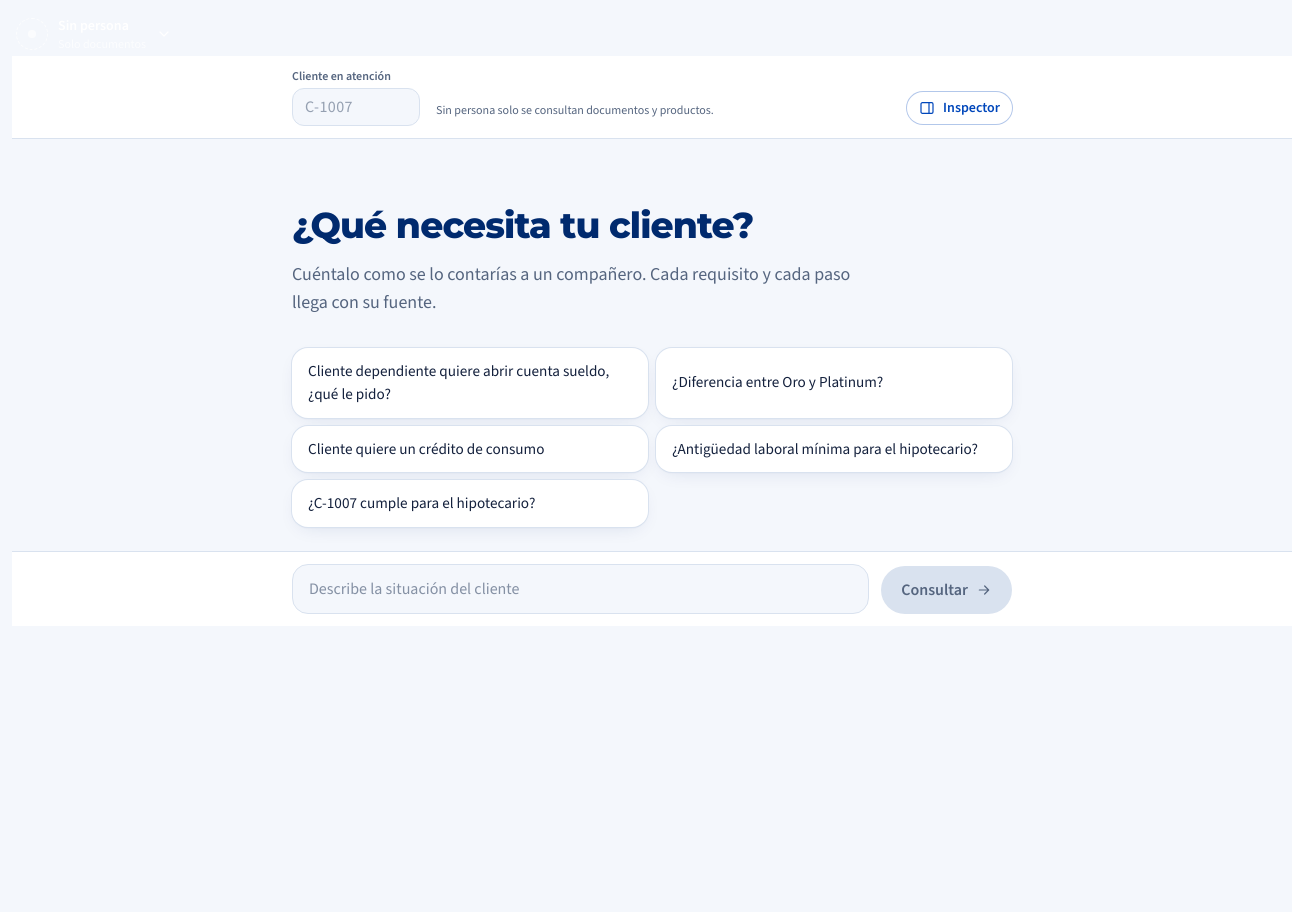
Scenario: Chat › shows an error event in place of an answer
Type "hola" into the text box named "Consulta" at (581, 589), box [292,564,869,614]
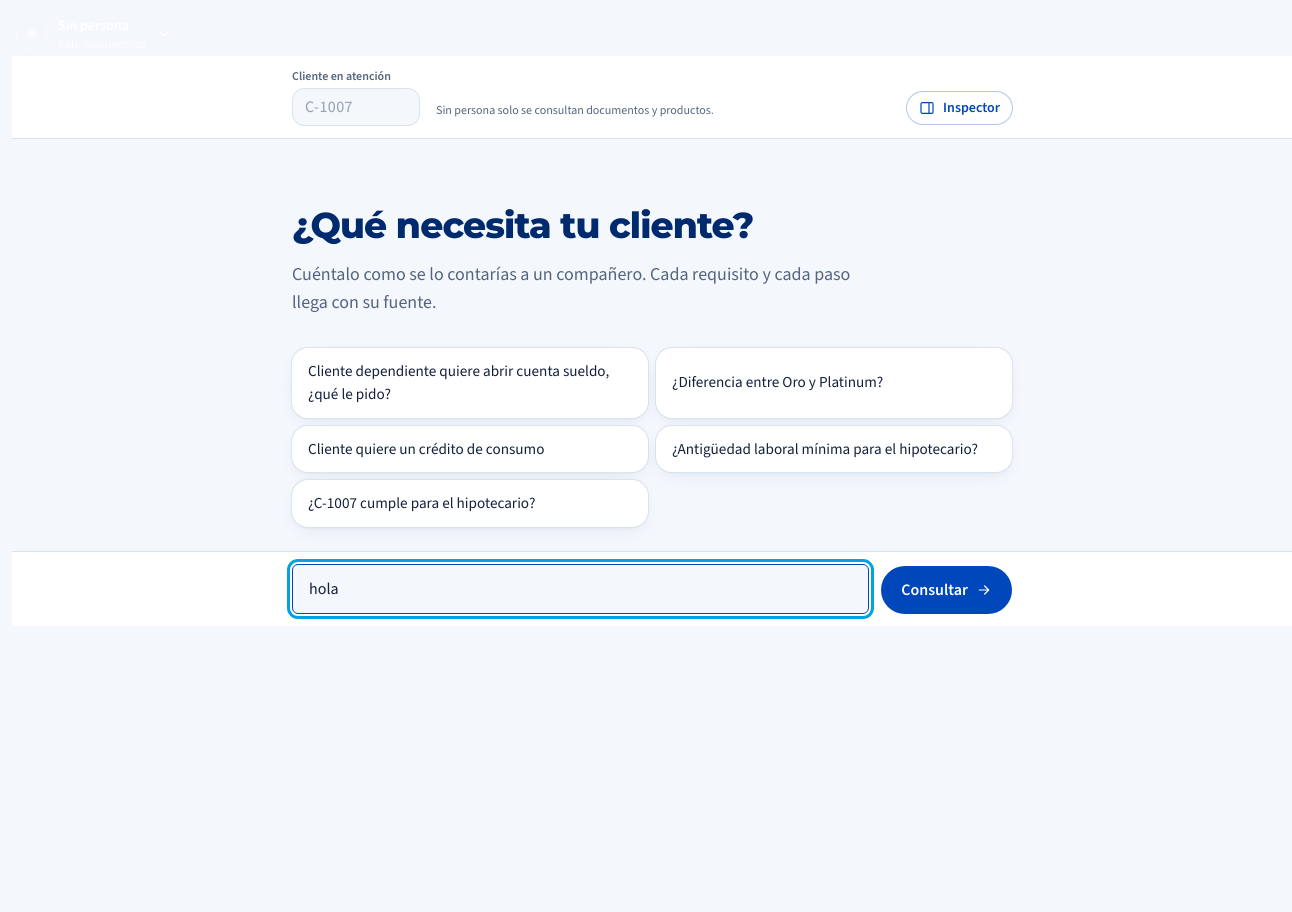
Click the button "Consultar" at (947, 590), box [881,566,1012,614]
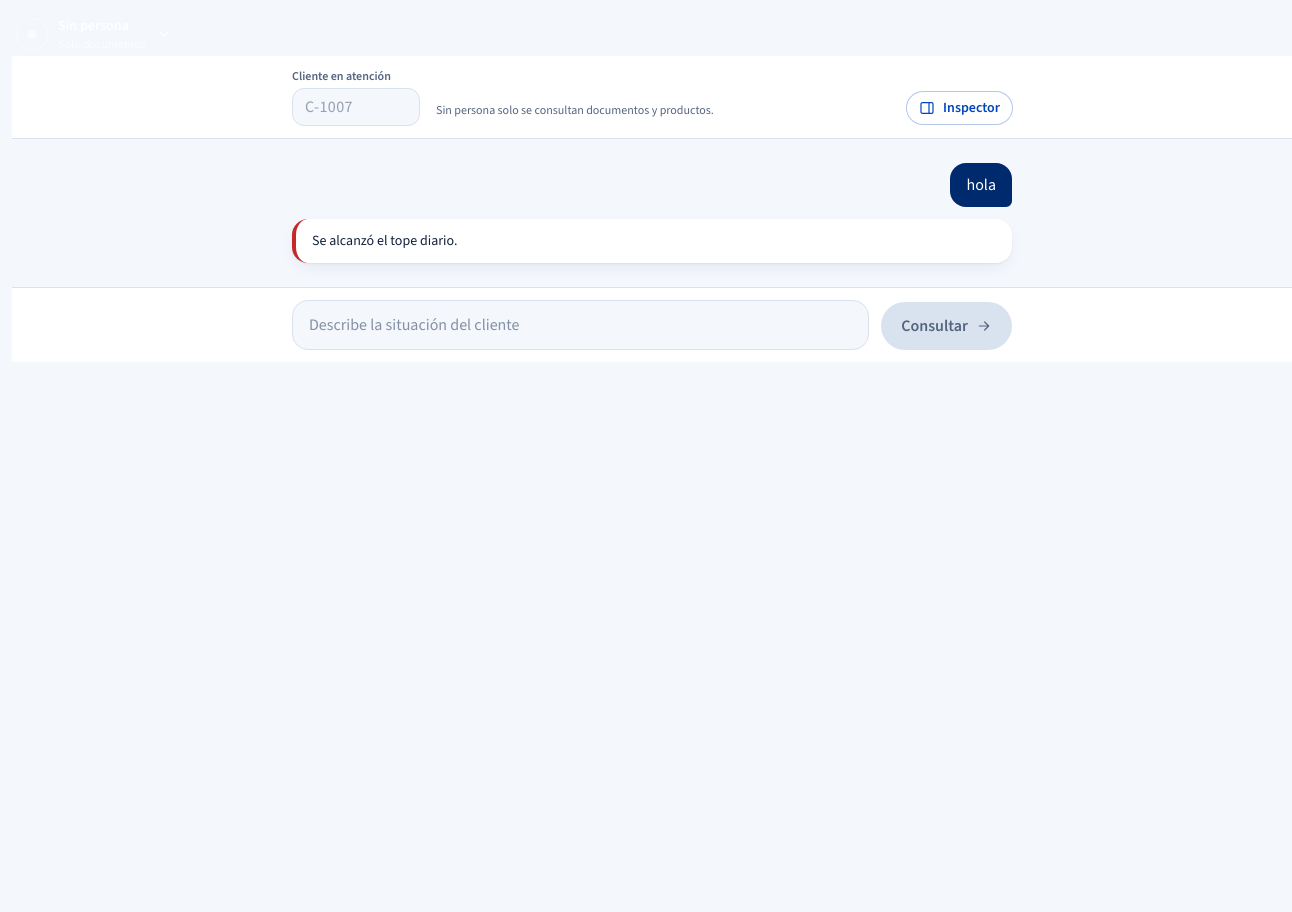
Now the message reads "Se alcanzó el tope diario.", box [312,231,458,250]
